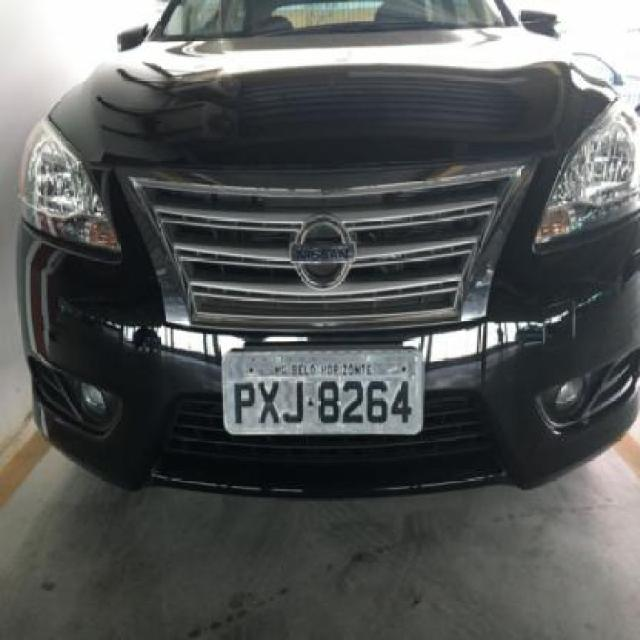old_plate: (217, 341, 430, 444)
